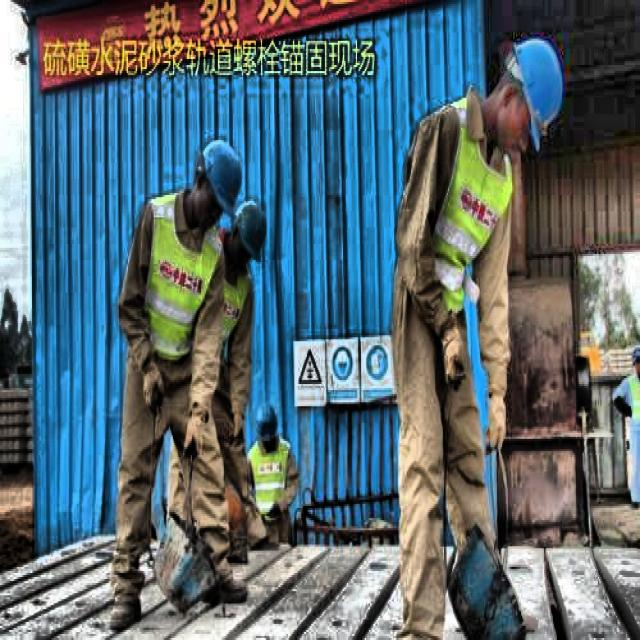helmet: (502, 30, 563, 148), (193, 128, 241, 223), (224, 199, 269, 266), (256, 396, 284, 455)
